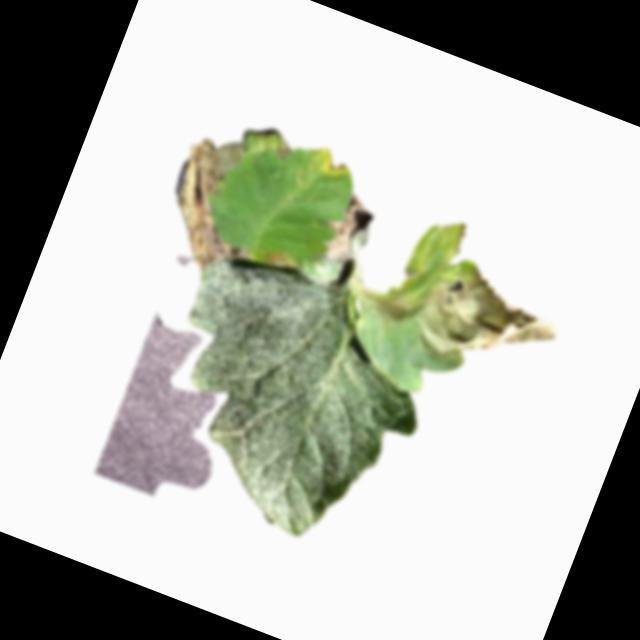Late_blight: (401, 250, 571, 397), (149, 124, 286, 285), (313, 189, 380, 274), (363, 283, 415, 329), (432, 215, 470, 263), (310, 143, 354, 183), (256, 243, 299, 275), (269, 136, 295, 166)
healthy: (125, 243, 451, 563)
